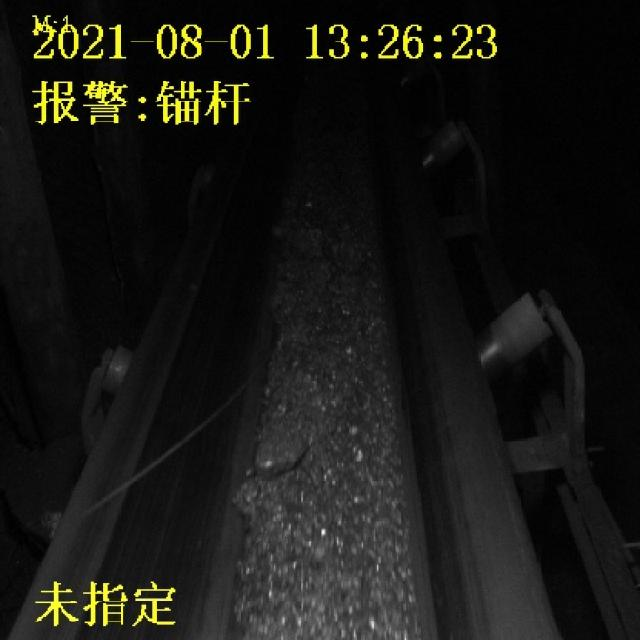bolt: (65, 389, 240, 526)
large_sized_coal: (256, 432, 310, 478)
